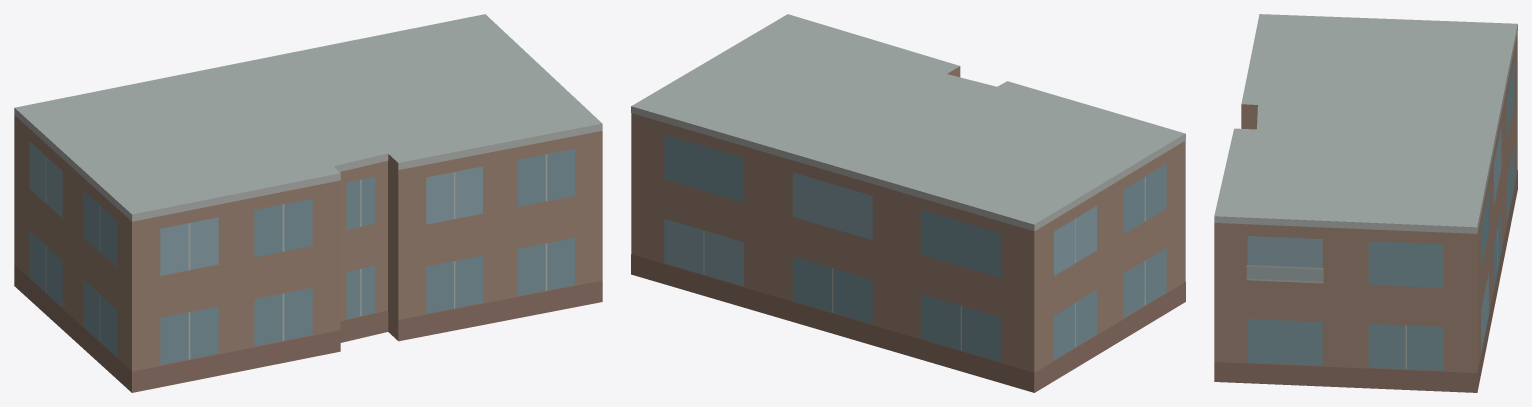
Rendered from survey-upis-32868278.glb.
3 views of the same model, side by side, from view 1: azimuth 30°, elevation 25°; view 2: azimuth 150°, elevation 25°; view 3: azimuth 270°, elevation 25° (orthographic). The views are drawn at different scales.
Visible parts, largest first — view 1: survey-upis-32868278.tmp; view 2: survey-upis-32868278.tmp; view 3: survey-upis-32868278.tmp.
Boxes of the visible parts, box(x1,y1,x2,y2) form: survey-upis-32868278.tmp: box(14, 14, 602, 392); survey-upis-32868278.tmp: box(631, 14, 1185, 392); survey-upis-32868278.tmp: box(1214, 14, 1517, 392).
Bounding box in the file's own units: 16.86 × 6.1 × 10.15.
